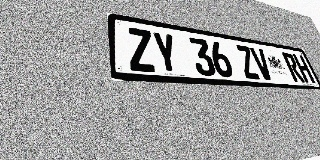3: (188, 37, 217, 77)
6: (207, 40, 235, 78)
H: (292, 54, 316, 83)
R: (281, 52, 305, 82)
V: (249, 47, 275, 80)
Y: (151, 31, 181, 74)
Z: (126, 27, 157, 73), (235, 45, 261, 79)
